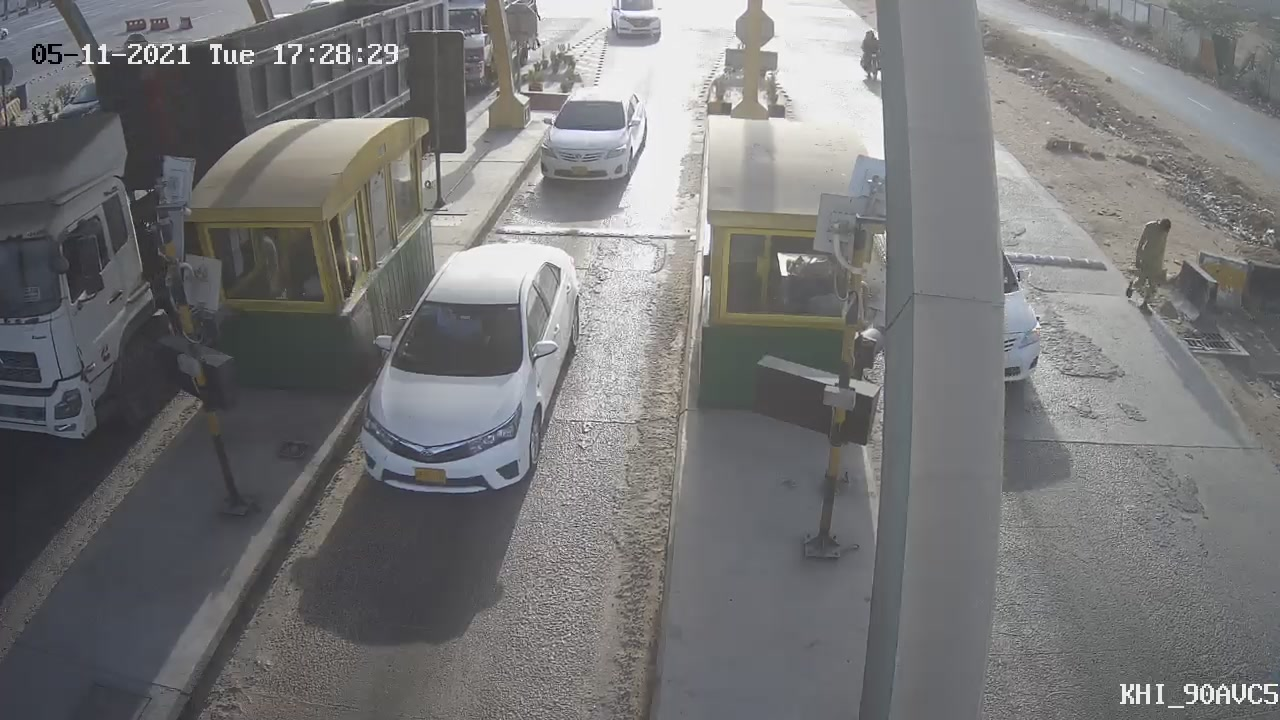F1: (338, 225, 601, 517), (521, 69, 663, 205)
